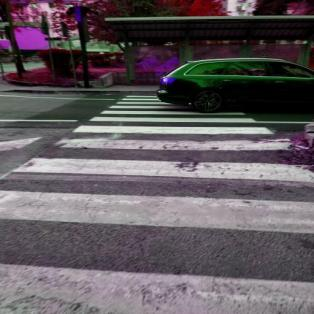Paso de Cebra: (0, 155, 314, 240), (66, 116, 274, 137)
